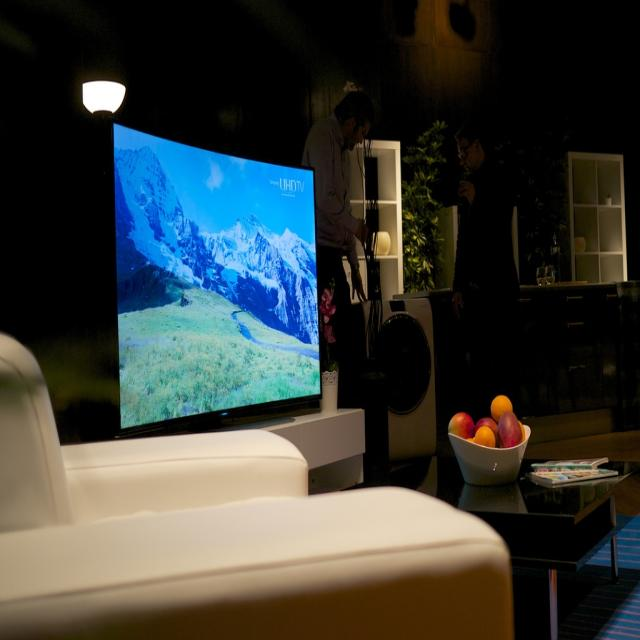Book: (532, 456, 616, 492)
